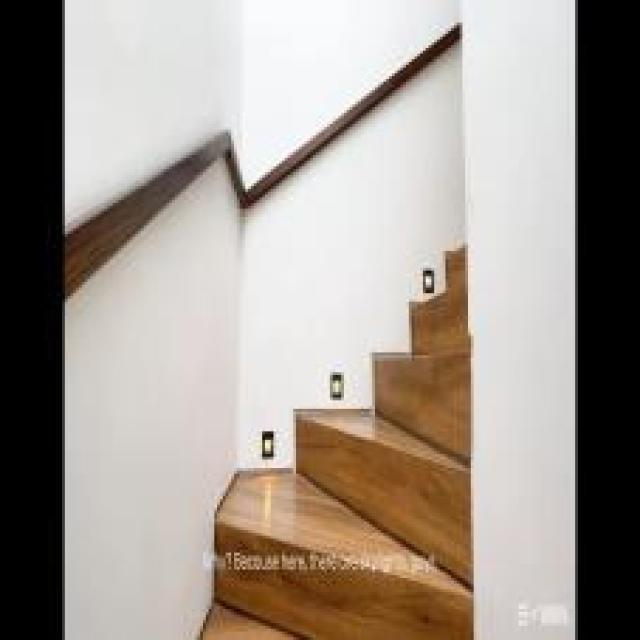upstair: (255, 390, 463, 638)
